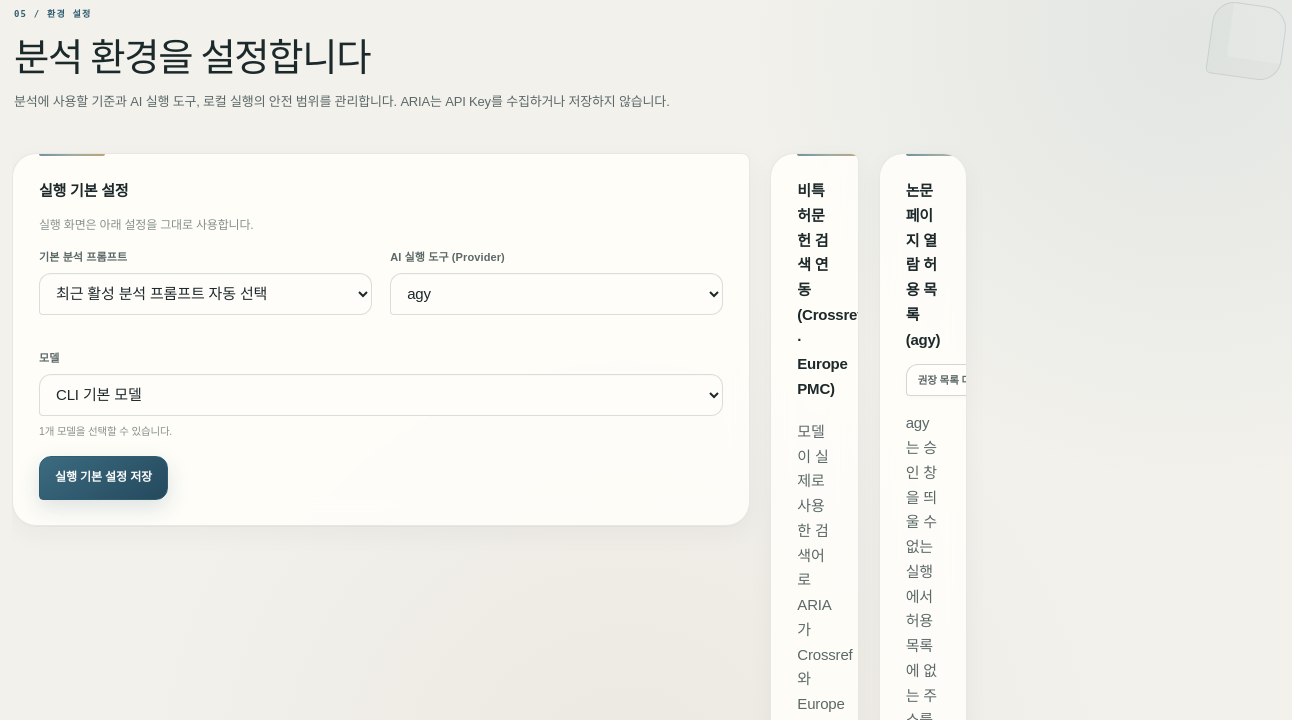
Test: 대용량 인용발명 전달 방식 › Codex 모델별 추론강도를 드롭다운으로 표시한다
Select "Codex" in the dropdown labelled "AI 실행 도구 (Provider)" at (557, 294), box [390,273,723,315]
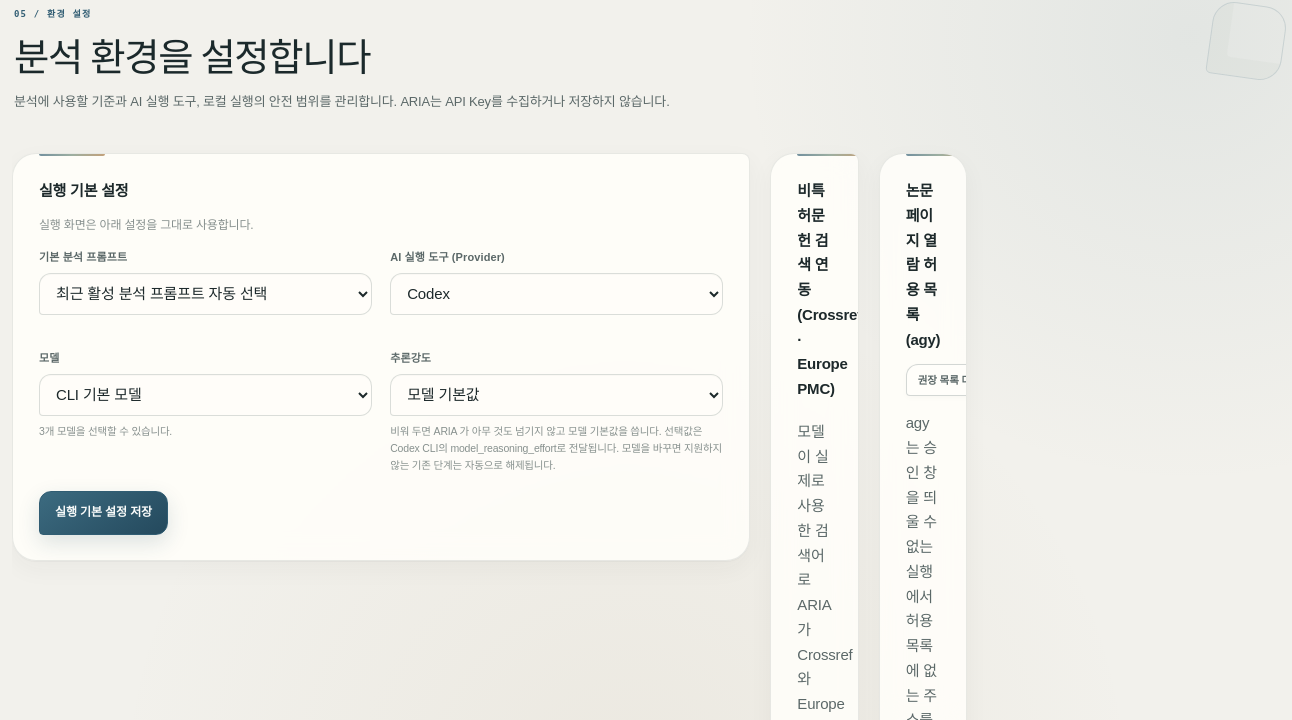
Select "gpt-5.6-luna" in the dropdown labelled "모델" at (206, 395), box [39,374,372,416]
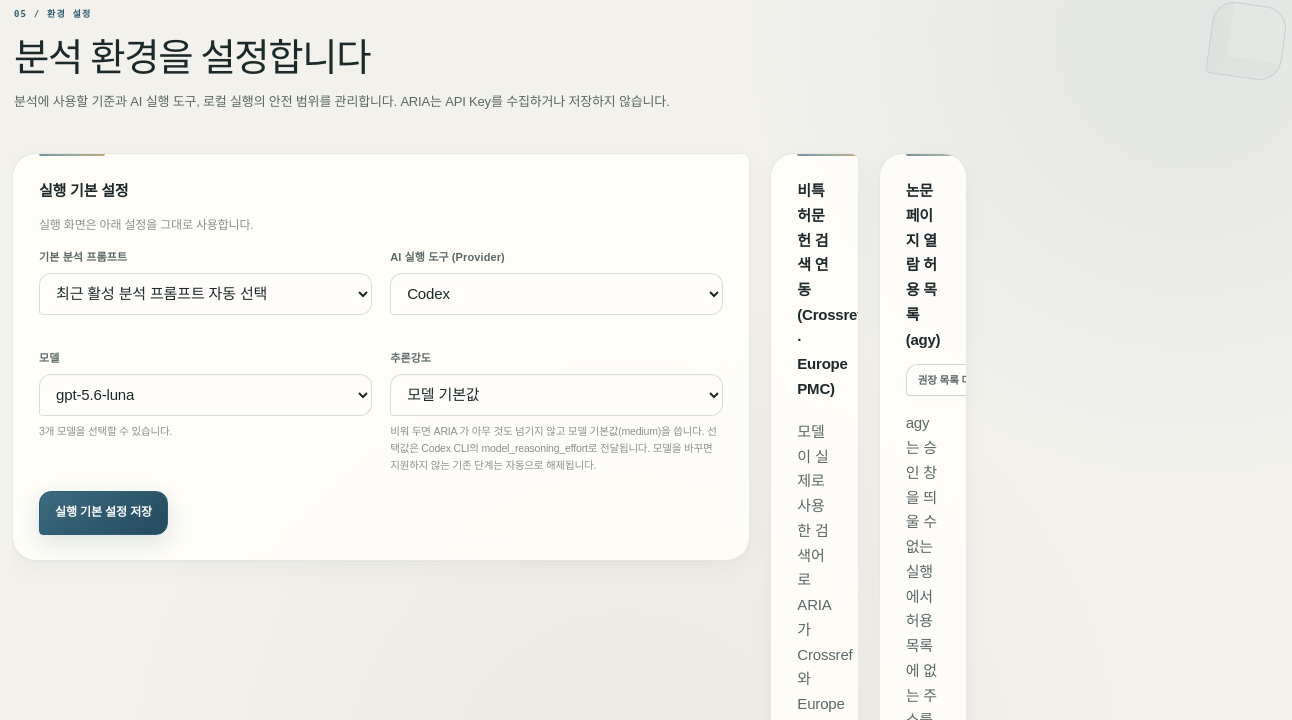
Expected: the text "모델 기본값(medium)" is shown, [390,423,723,475]
Select "gpt-5.6-sol" in the dropdown labelled "모델" at (206, 395), box [39,374,372,416]
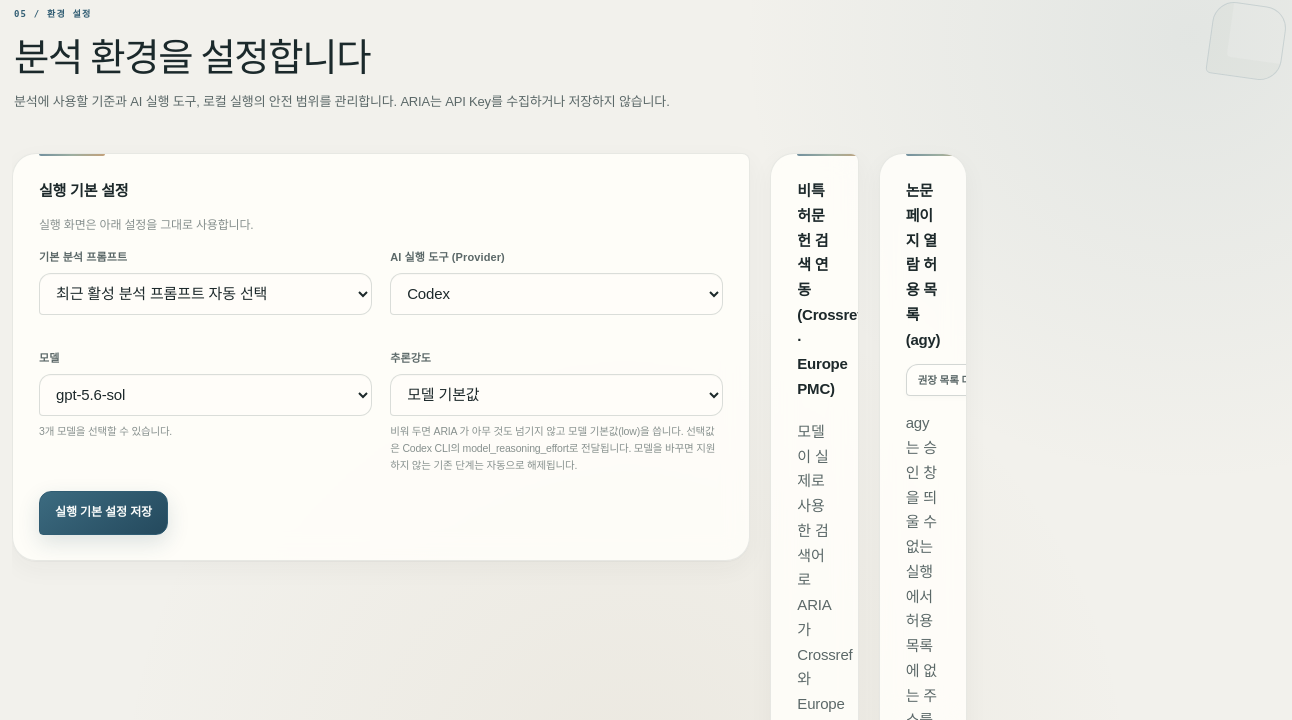
Expected: the text "모델 기본값(low)" is shown, [390,423,723,475]
